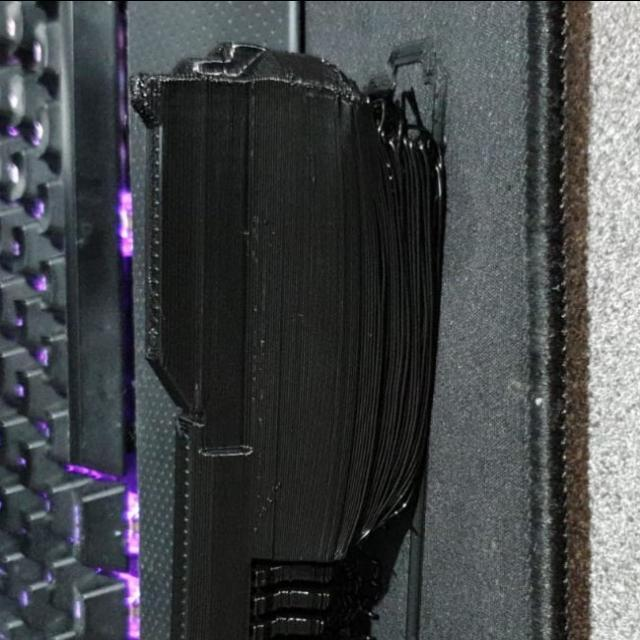Warping: (336, 480, 414, 560)
